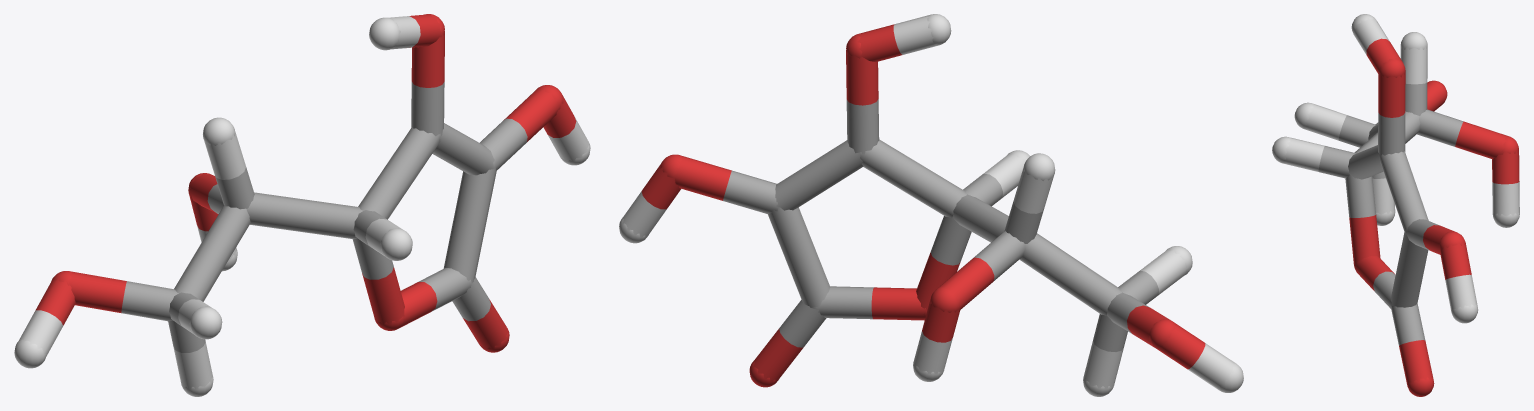
Rendered from vitamin-c-sticks.glb.
The picture shows the model from 3 angles, left to right: view 1: azimuth 30°, elevation 25°; view 2: azimuth 150°, elevation 25°; view 3: azimuth 270°, elevation 25°; orthographic projection. The views are drawn at different scales.
Parts seen in each view (by area): view 1: vitamin-c-sticks; view 2: vitamin-c-sticks; view 3: vitamin-c-sticks.
Part boxes in pixels (box(x1,y1,x2,y2)): vitamin-c-sticks: box(14, 14, 590, 396); vitamin-c-sticks: box(619, 14, 1243, 396); vitamin-c-sticks: box(1272, 14, 1519, 396).
Bounding box in the file's own units: 8.5 × 5.25 × 3.65.
